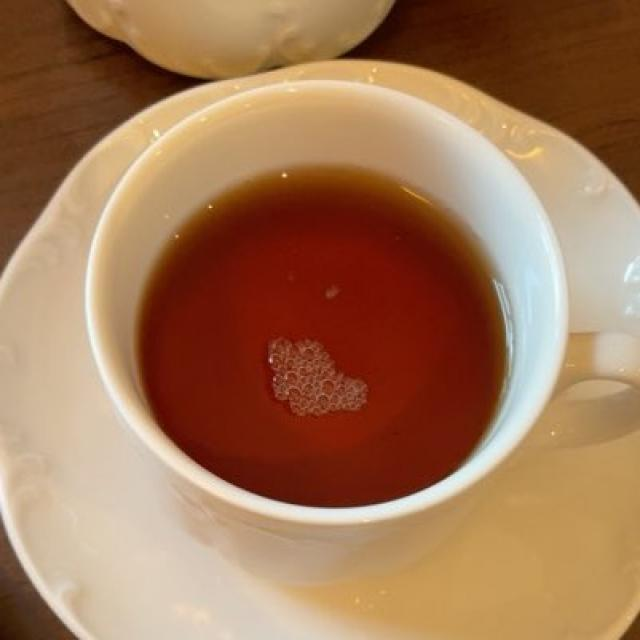tea: (142, 173, 498, 496)
